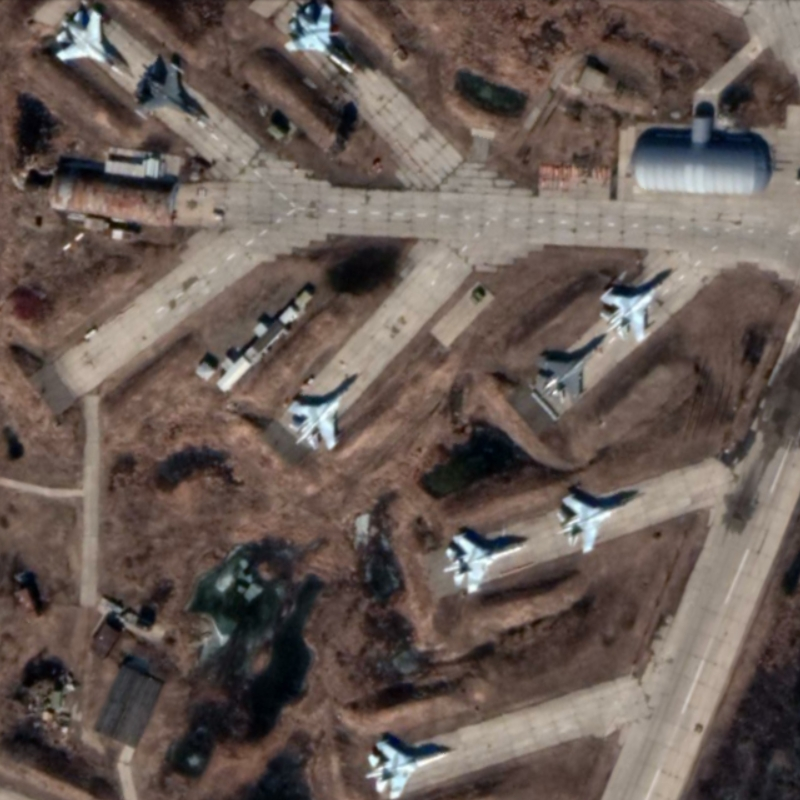A1: (363, 737, 460, 800), (285, 373, 361, 453), (441, 530, 533, 595), (553, 491, 645, 554), (283, 3, 357, 76), (132, 61, 210, 129), (53, 6, 124, 76), (538, 335, 608, 406), (597, 281, 664, 345)
